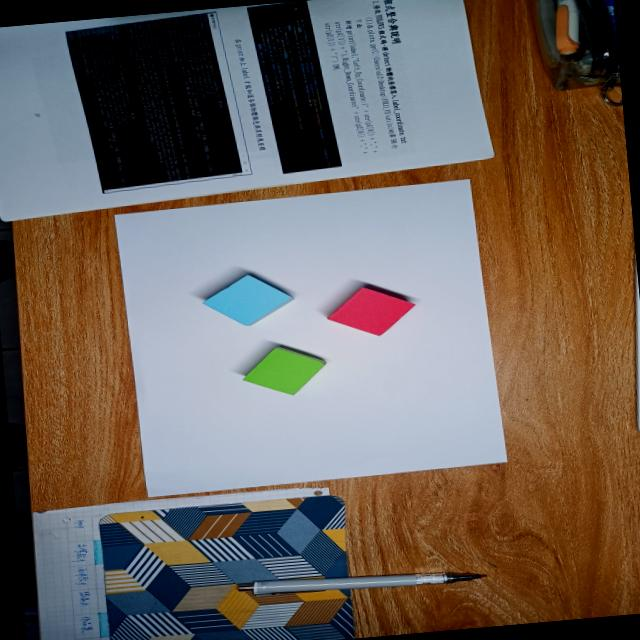BLUE: (202, 274, 294, 325)
GREEN: (242, 346, 326, 396)
RED: (326, 286, 416, 335)
